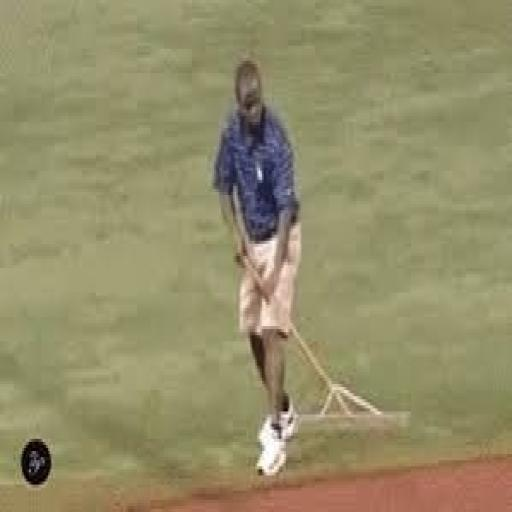dancing: (209, 55, 305, 481)
